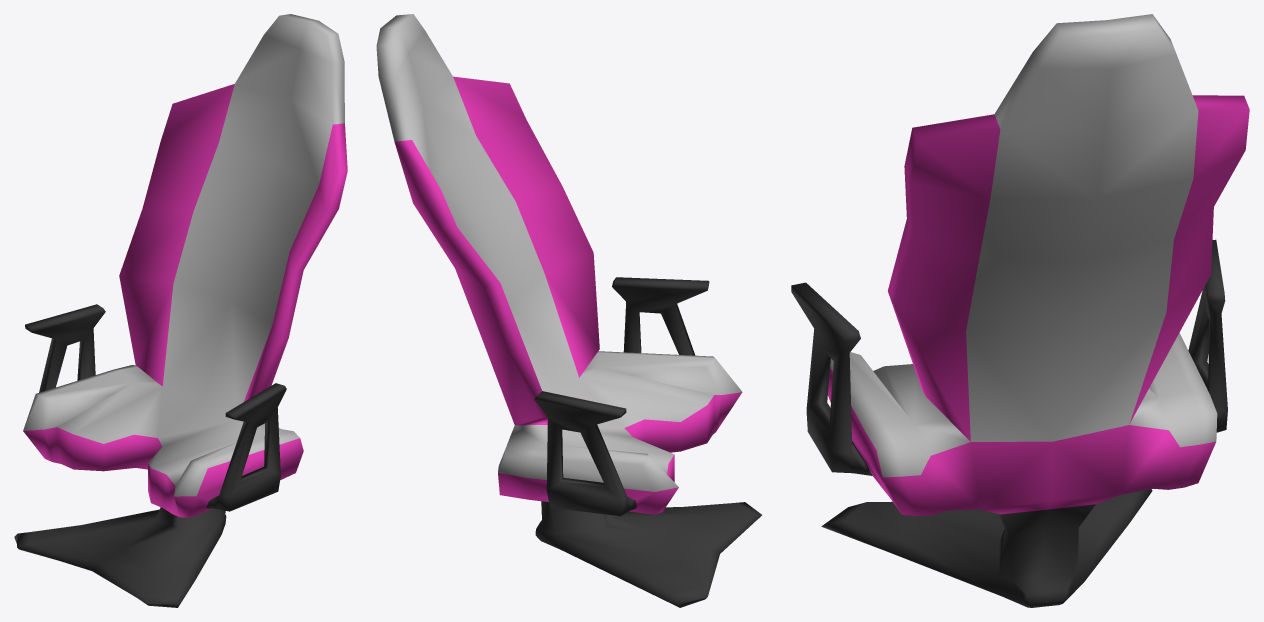
Rendered from sillaPCmasterRace.fbx.
3 views of the same model, side by side, from view 1: azimuth 30°, elevation 25°; view 2: azimuth 150°, elevation 25°; view 3: azimuth 270°, elevation 25° (orthographic). The views are drawn at different scales.
Parts seen in each view (by area): view 1: Cube.001; view 2: Cube.001; view 3: Cube.001.
Boxes of the visible parts, x1,y1,x2,y2 form: Cube.001: (14,14,347,607); Cube.001: (376,14,761,607); Cube.001: (791,14,1249,607).
Size of the model in its own units: 200 by 288 by 179.
